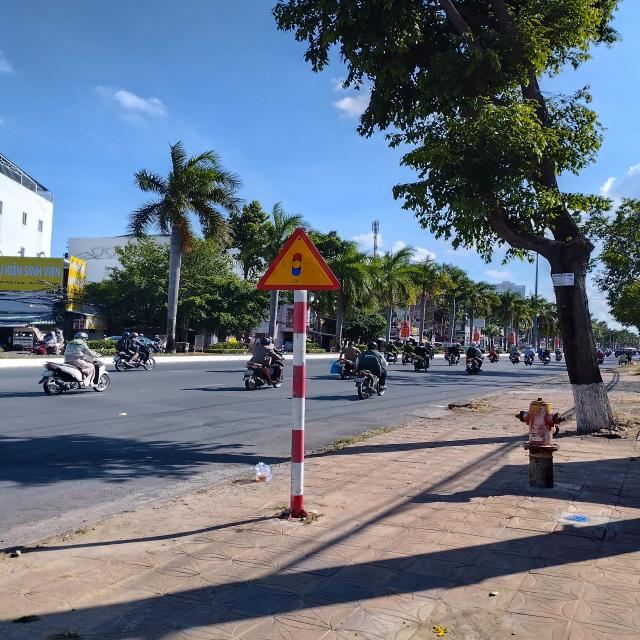Duong_Co_Go_Giam_Toc: (256, 228, 341, 292)
